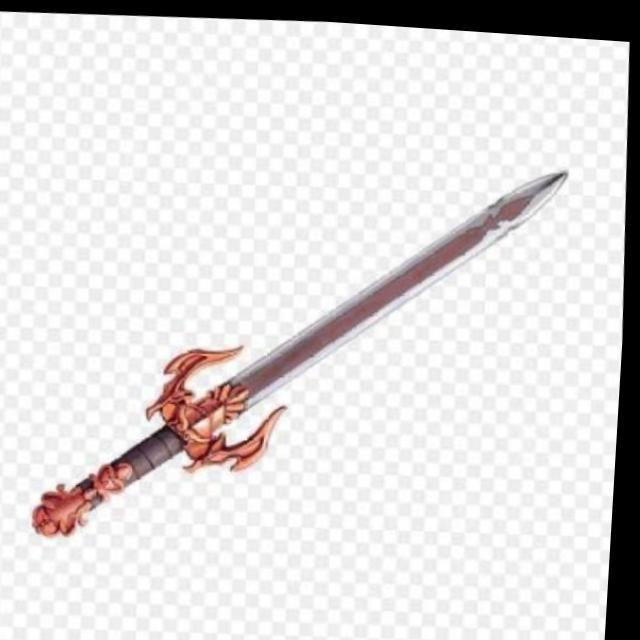weapon: (23, 132, 582, 564)
